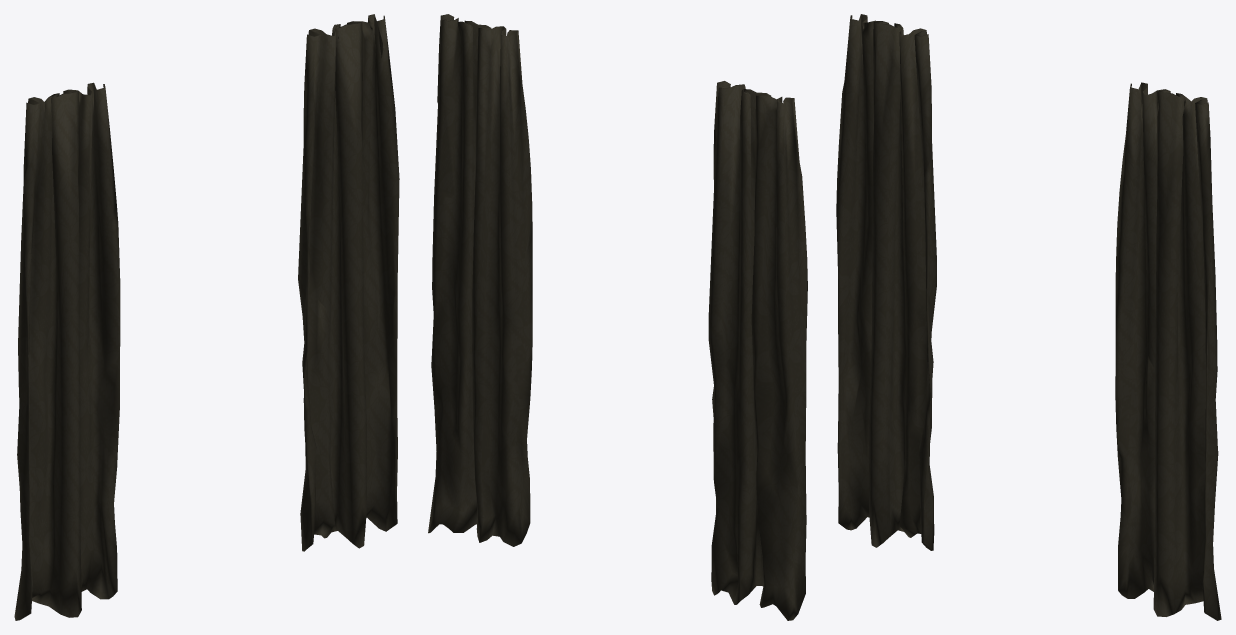
File: CURTAIN LOD 2.fbx
The picture shows the model from 3 angles, left to right: view 1: azimuth 30°, elevation 25°; view 2: azimuth 150°, elevation 25°; view 3: azimuth 330°, elevation 25°; orthographic projection.
Visible parts, largest first — view 1: CURTAIN LOD 2; view 2: CURTAIN LOD 2; view 3: CURTAIN LOD 2.
Part boxes in pixels (x1,y1,x2,y2): CURTAIN LOD 2: [14, 14, 399, 620]; CURTAIN LOD 2: [428, 14, 807, 620]; CURTAIN LOD 2: [836, 14, 1221, 620].
Bounding box in the file's own units: 1.83 × 0.2039 × 2.44.
